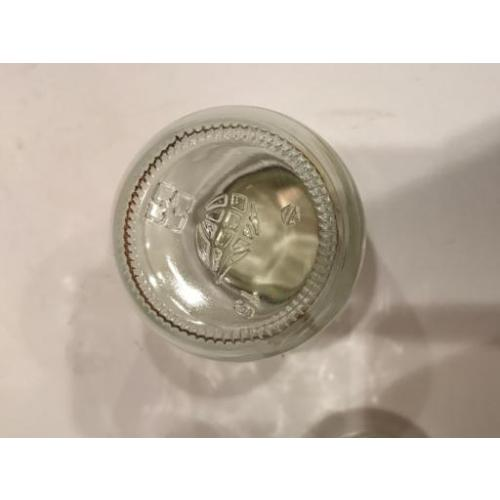glass: (112, 106, 362, 365)
